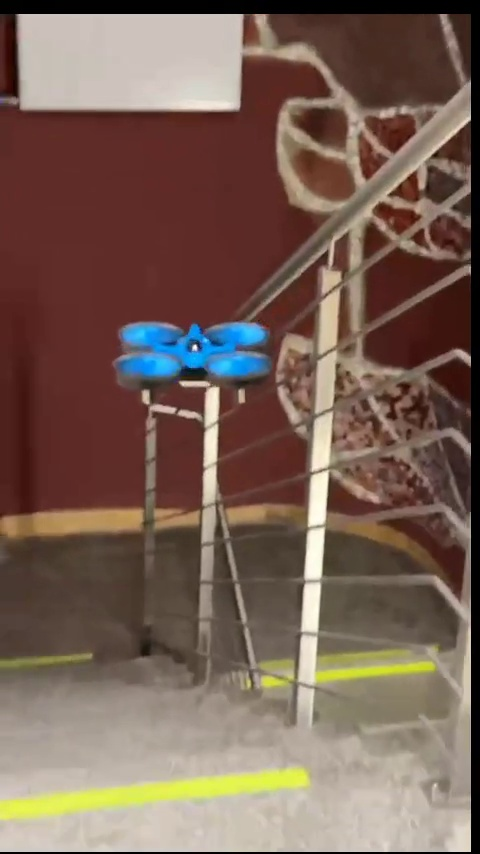drone: (108, 320, 271, 406)
